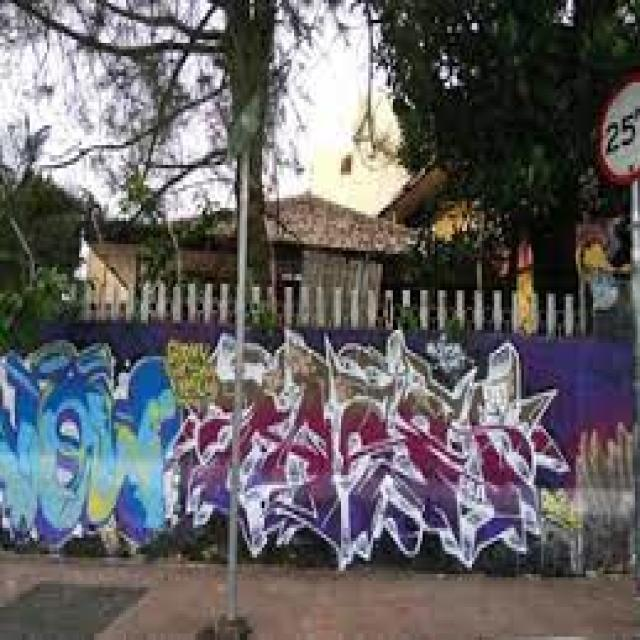-: (0, 337, 571, 564)
